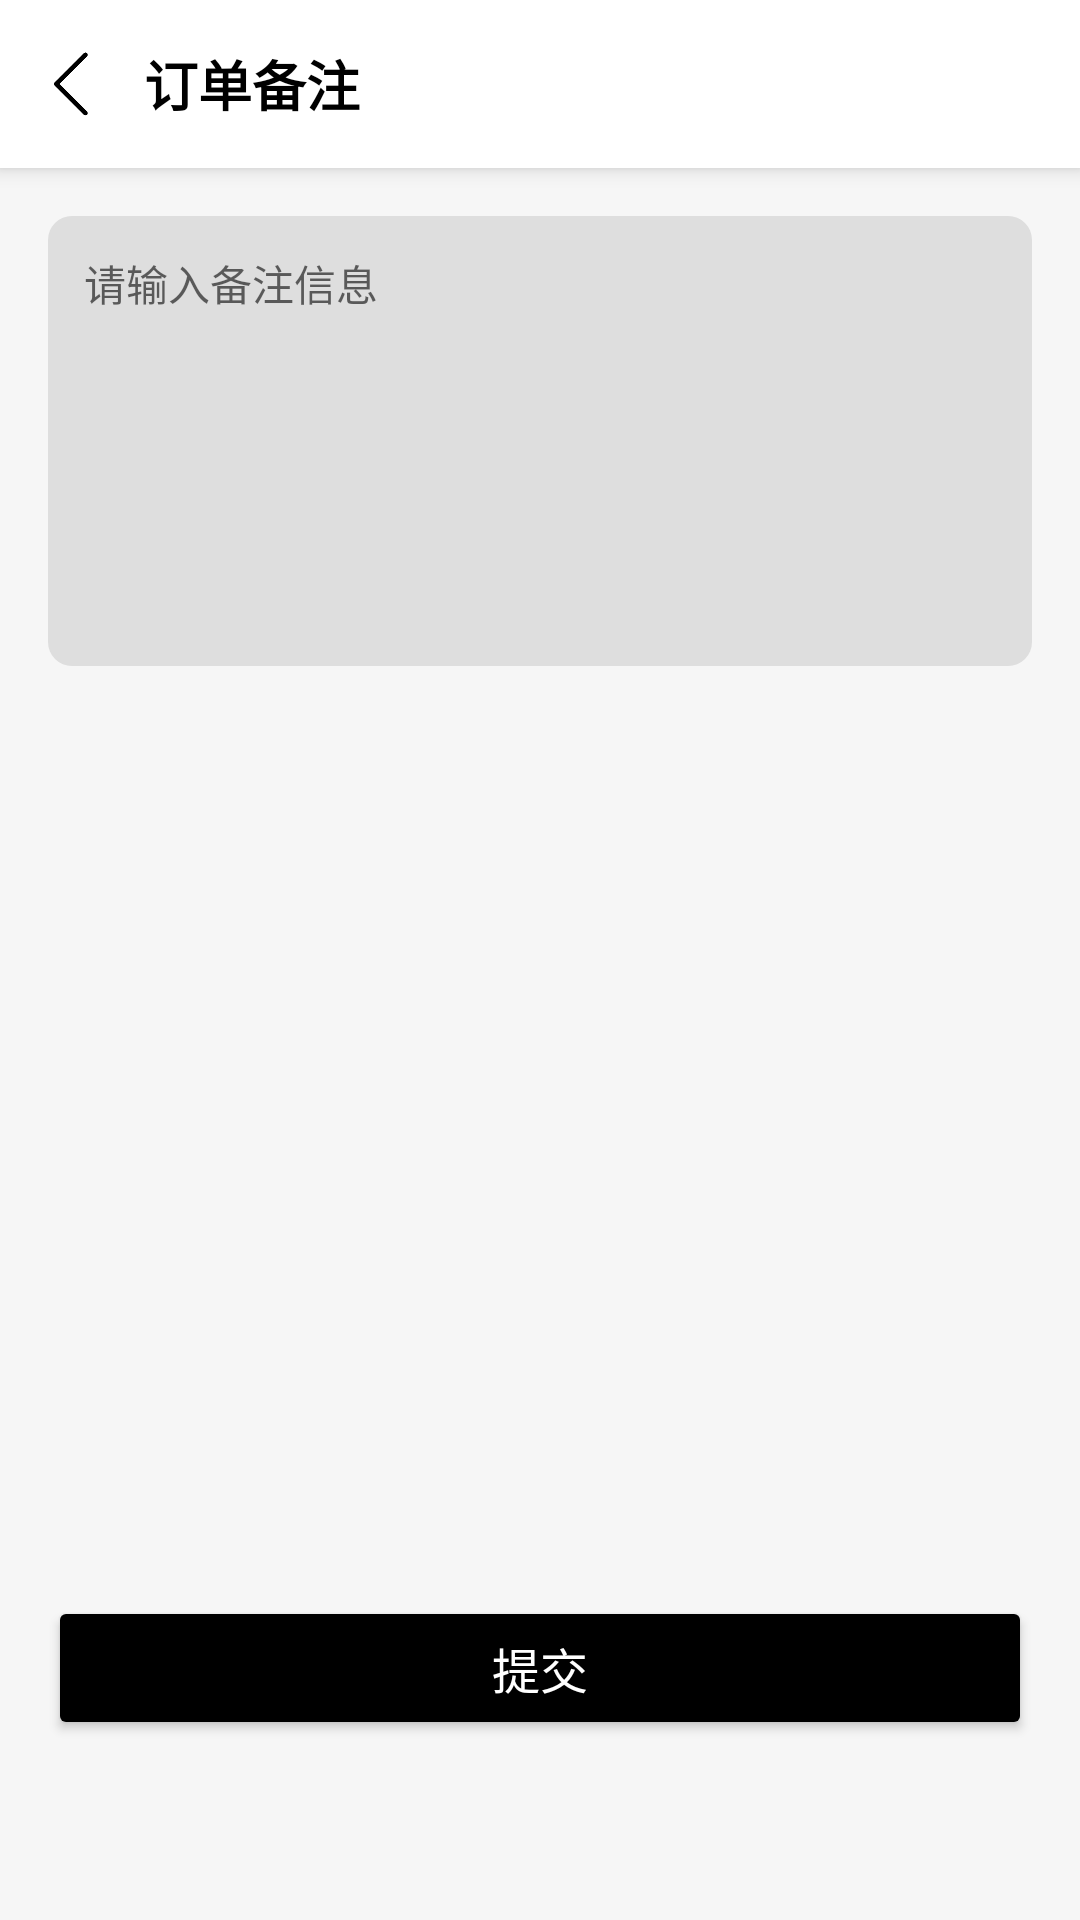

Screen size 1080x1920. Icon name, then its center in pixels as (x=x, y=y):
返回: (x=71, y=84)
